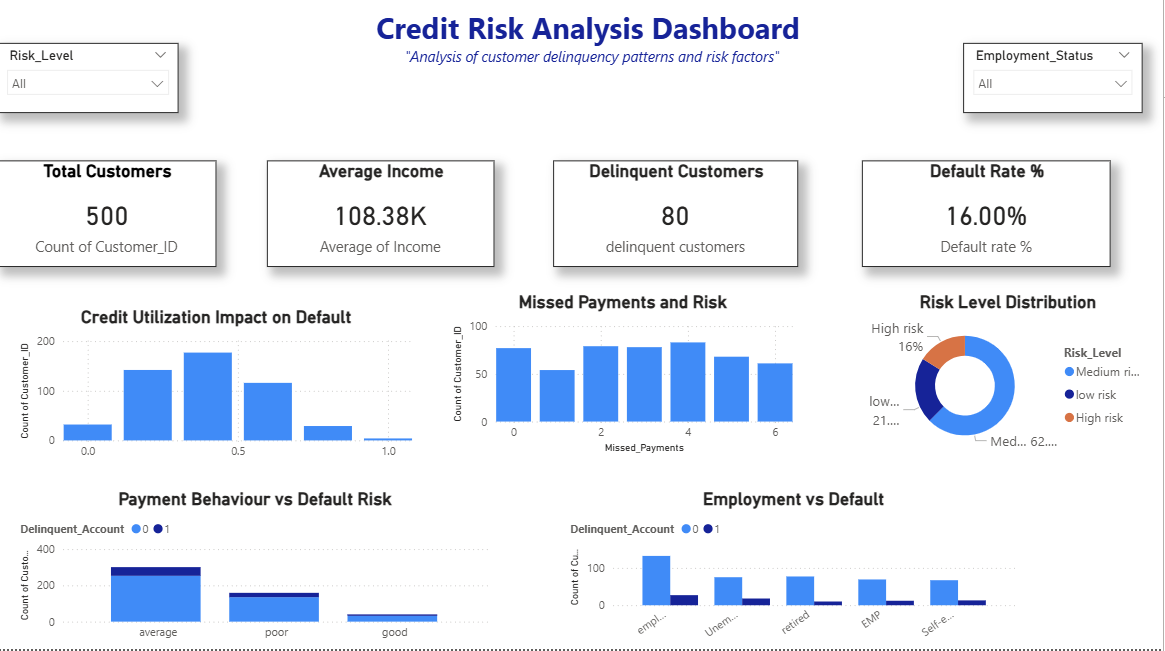

What the dashboard file says about the page in this screenshot:
{"tool":"powerbi","page":{"name":"Page 1","canvas":[1280,720],"ordinal":0},"visuals":[{"type":"card","title":"Total Customers","fields":{"Values":["CountNonNull(Delinquency_prediction_dataset.Customer_ID)"]},"box":[0,183.9,241,117],"z":0},{"type":"card","title":"Default Rate %","fields":{"Values":["Delinquency_prediction_dataset.Default rate %"]},"box":[950.1,183.9,273.1,117],"z":2000},{"type":"card","title":"Average Income","fields":{"Values":["Avg(Delinquency_prediction_dataset.Income)"]},"box":[296.7,183.9,249.4,117],"z":3000},{"type":"clusteredColumnChart","title":"Missed Payments and Risk","fields":{"Category":["Delinquency_prediction_dataset.Missed_Payments"],"Y":["CountNonNull(Delinquency_prediction_dataset.Customer_ID)"]},"box":[496,327.4,383.1,182.5],"z":4000},{"type":"donutChart","title":"Risk Level Distribution","fields":{"Category":["Delinquency_prediction_dataset.Risk_Level"],"Y":["CountNonNull(Delinquency_prediction_dataset.Customer_ID)"]},"box":[950.1,327.4,320.4,182.5],"z":6000},{"type":"clusteredColumnChart","title":"Employment vs Default","fields":{"Category":["Delinquency_prediction_dataset.Employment_Status"],"Y":["CountNonNull(Delinquency_prediction_dataset.Customer_ID)"],"Series":["Delinquency_prediction_dataset.Delinquent_Account"]},"box":[624.1,544.7,500.1,175.5],"z":8000},{"type":"columnChart","title":"Payment Behaviour vs Default Risk","fields":{"Category":["Delinquency_prediction_dataset.Payment_Behaviour"],"Y":["CountNonNull(Delinquency_prediction_dataset.Customer_ID)"],"Series":["Delinquency_prediction_dataset.Delinquent_Account"]},"box":[20.9,544.7,525.2,175.5],"z":8001},{"type":"slicer","fields":{"Values":["Delinquency_prediction_dataset.Employment_Status"]},"box":[1060.2,54.3,196.4,76.6],"z":8002},{"type":"clusteredColumnChart","title":"Credit Utilization Impact on Default ","fields":{"Y":["CountNonNull(Delinquency_prediction_dataset.Customer_ID)"],"Category":["Delinquency_prediction_dataset.Credit_Utilization (bins)"]},"box":[20.9,344.1,440.2,176.9],"z":8003},{"type":"card","title":"Delinquent Customers","fields":{"Values":["Delinquency_prediction_dataset.delinquent customers"]},"box":[610.2,183.9,268.9,117],"z":8004},{"type":"textbox","box":[284.2,11.1,738.4,86.4],"z":8005},{"type":"slicer","fields":{"Values":["Delinquency_prediction_dataset.Risk_Level"]},"box":[0,54.3,199.2,76.6],"z":8006}]}

Visuals, with their boxes in screenshot pixels (x1, y1, x2, y2), scaled from the page's 1280x720 canvas onto the 1165x651 screenshot:
"Total Customers" card: 0, 166, 219, 272
"Default Rate %" card: 865, 166, 1113, 272
"Average Income" card: 270, 166, 497, 272
"Missed Payments and Risk" clusteredColumnChart: 451, 296, 800, 461
"Risk Level Distribution" donutChart: 865, 296, 1156, 461
"Employment vs Default" clusteredColumnChart: 568, 492, 1023, 650
"Payment Behaviour vs Default Risk" columnChart: 19, 492, 497, 650
slicer - Delinquency_prediction_dataset.Employment_Status: 965, 49, 1144, 118
"Credit Utilization Impact on Default " clusteredColumnChart: 19, 311, 420, 471
"Delinquent Customers" card: 555, 166, 800, 272
textbox: 259, 10, 931, 88
slicer - Delinquency_prediction_dataset.Risk_Level: 0, 49, 181, 118
